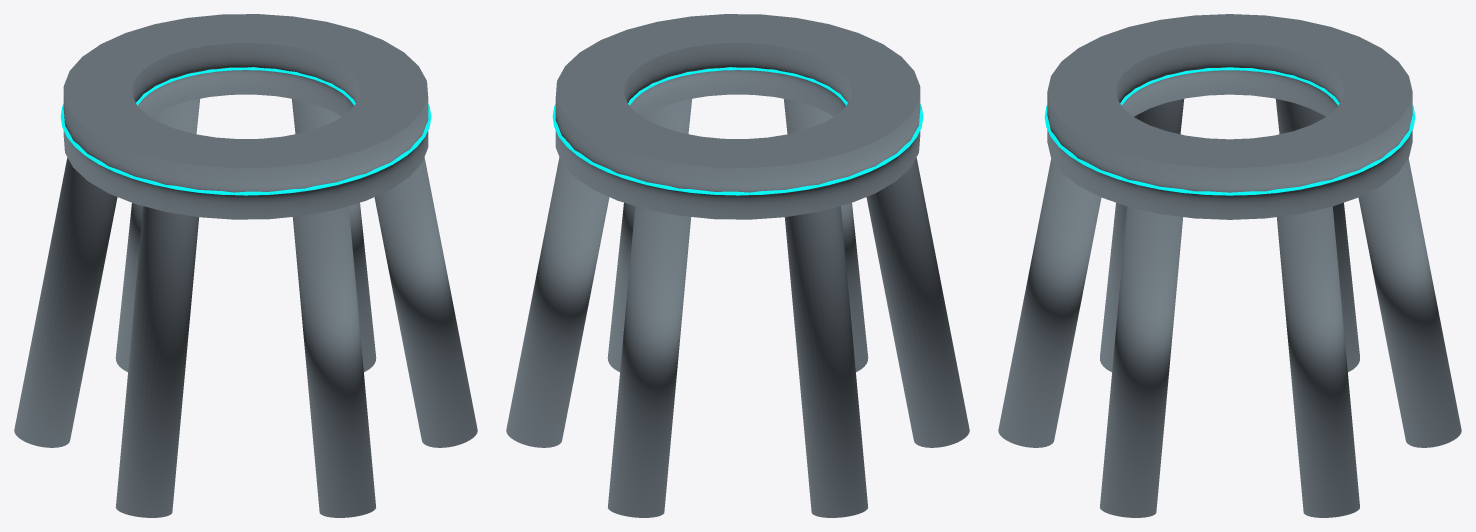
Rendered from olm.glb.
3 views of the same model, side by side, from view 1: azimuth 30°, elevation 25°; view 2: azimuth 150°, elevation 25°; view 3: azimuth 270°, elevation 25° (orthographic).
Visible parts, largest first — view 1: Cylinder.002; view 2: Cylinder.002; view 3: Cylinder.002.
Boxes of the visible parts, x1,y1,x2,y2 form: Cylinder.002: (14, 14, 477, 517); Cylinder.002: (506, 14, 969, 517); Cylinder.002: (998, 14, 1461, 517).
Bounding box in the file's own units: 3.59 × 3.37 × 4.06.
